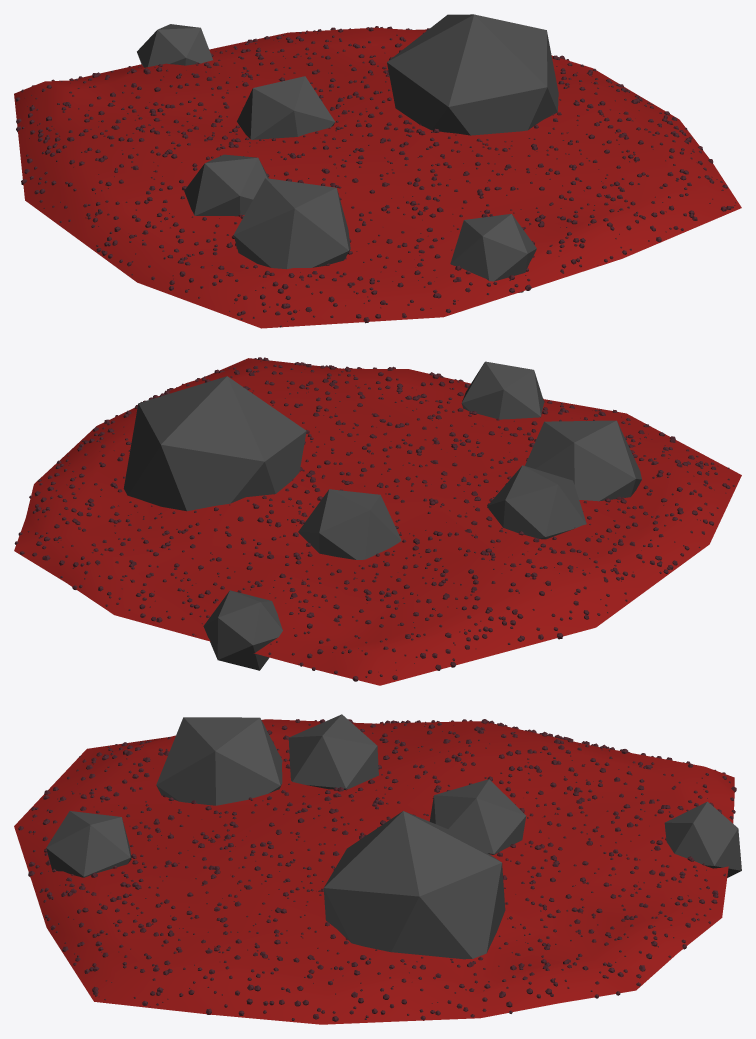
The picture shows the model from 3 angles, top to bottom: view 1: azimuth 30°, elevation 25°; view 2: azimuth 150°, elevation 25°; view 3: azimuth 270°, elevation 25°; orthographic projection. The views are drawn at different scales.
Parts seen in each view (by area): view 1: OreDeposit; view 2: OreDeposit; view 3: OreDeposit.
Part boxes in pixels (x1,y1,x2,y2): OreDeposit: (14,14,741,328); OreDeposit: (14,357,741,685); OreDeposit: (14,714,741,1024).
Bounding box in the file's own units: 898 × 266 × 921.
